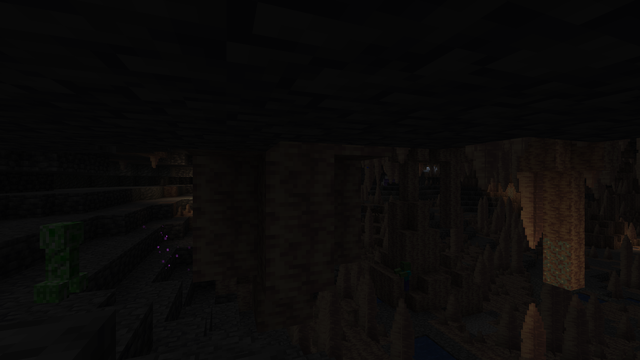araignees: (371, 207, 381, 215)
creepers: (36, 217, 85, 302)
zombies: (399, 261, 412, 293)
